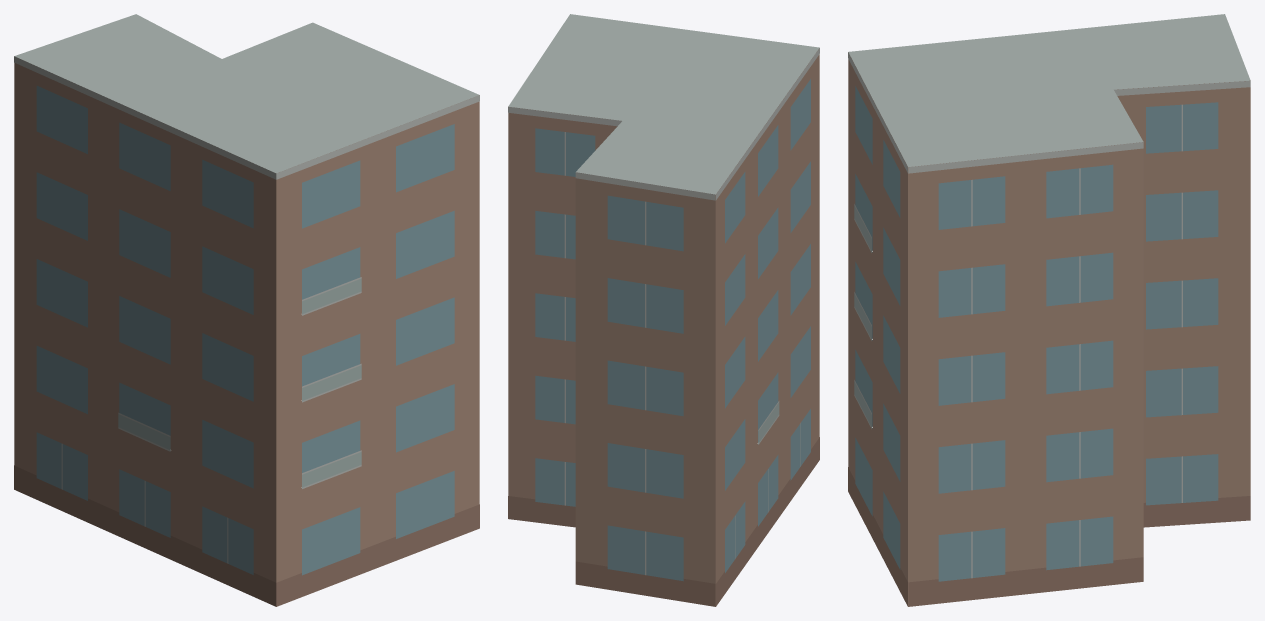
File: survey-upis-32838860.glb
The picture shows the model from 3 angles, left to right: view 1: azimuth 30°, elevation 25°; view 2: azimuth 150°, elevation 25°; view 3: azimuth 270°, elevation 25°; orthographic projection. The views are drawn at different scales.
Parts seen in each view (by area): view 1: survey-upis-32838860.tmp; view 2: survey-upis-32838860.tmp; view 3: survey-upis-32838860.tmp.
Part boxes in pixels (x1,y1,x2,y2): survey-upis-32838860.tmp: [14, 14, 479, 606]; survey-upis-32838860.tmp: [508, 14, 819, 606]; survey-upis-32838860.tmp: [848, 14, 1250, 606].
Size of the model in its own units: 12.37 by 16.55 by 13.74.
